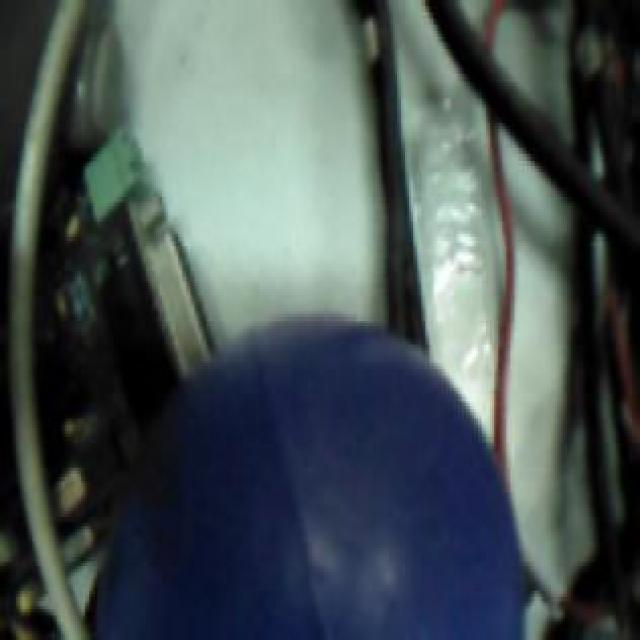BallPurple: (98, 308, 524, 640)
